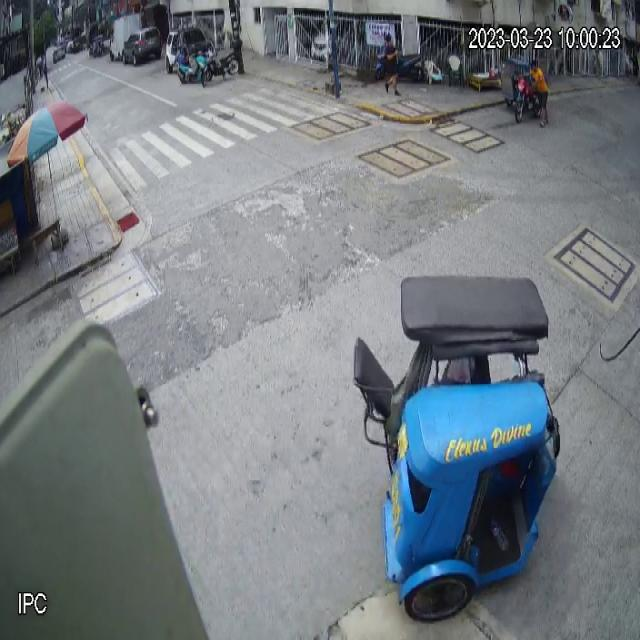Tricycle: (353, 276, 563, 623)
